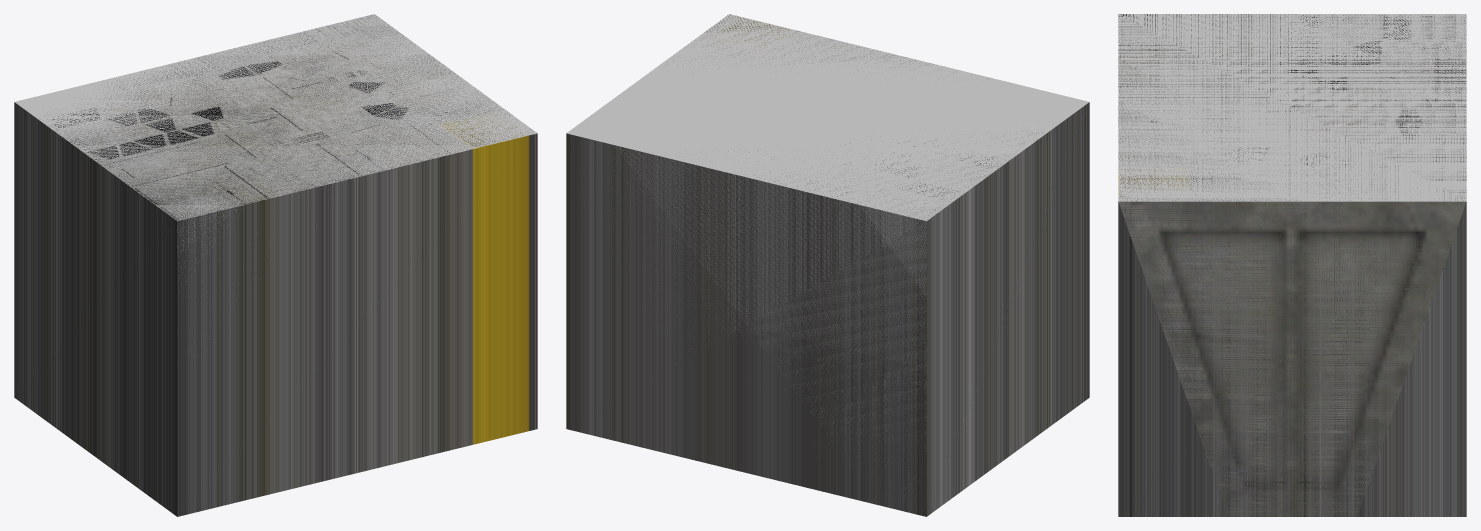
File: SciFi_duct_outtake.DAE
3 views of the same model, side by side, from view 1: azimuth 30°, elevation 25°; view 2: azimuth 150°, elevation 25°; view 3: azimuth 270°, elevation 25° (orthographic). The views are drawn at different scales.
Visible parts, largest first — view 1: colbox-01, bounds; view 2: colbox-01, bounds; view 3: colbox-01, LP_hvac_outtake, bounds.
Part boxes in pixels (x1,y1,x2,y2): colbox-01: [14, 15, 537, 516]; bounds: [15, 14, 537, 284]; colbox-01: [566, 14, 1089, 516]; bounds: [566, 14, 1088, 507]; colbox-01: [1118, 14, 1466, 516]; LP_hvac_outtake: [1118, 201, 1465, 516]; bounds: [1118, 14, 1466, 201].
Bounding box in the file's own units: 100 × 78.4 × 78.4.
